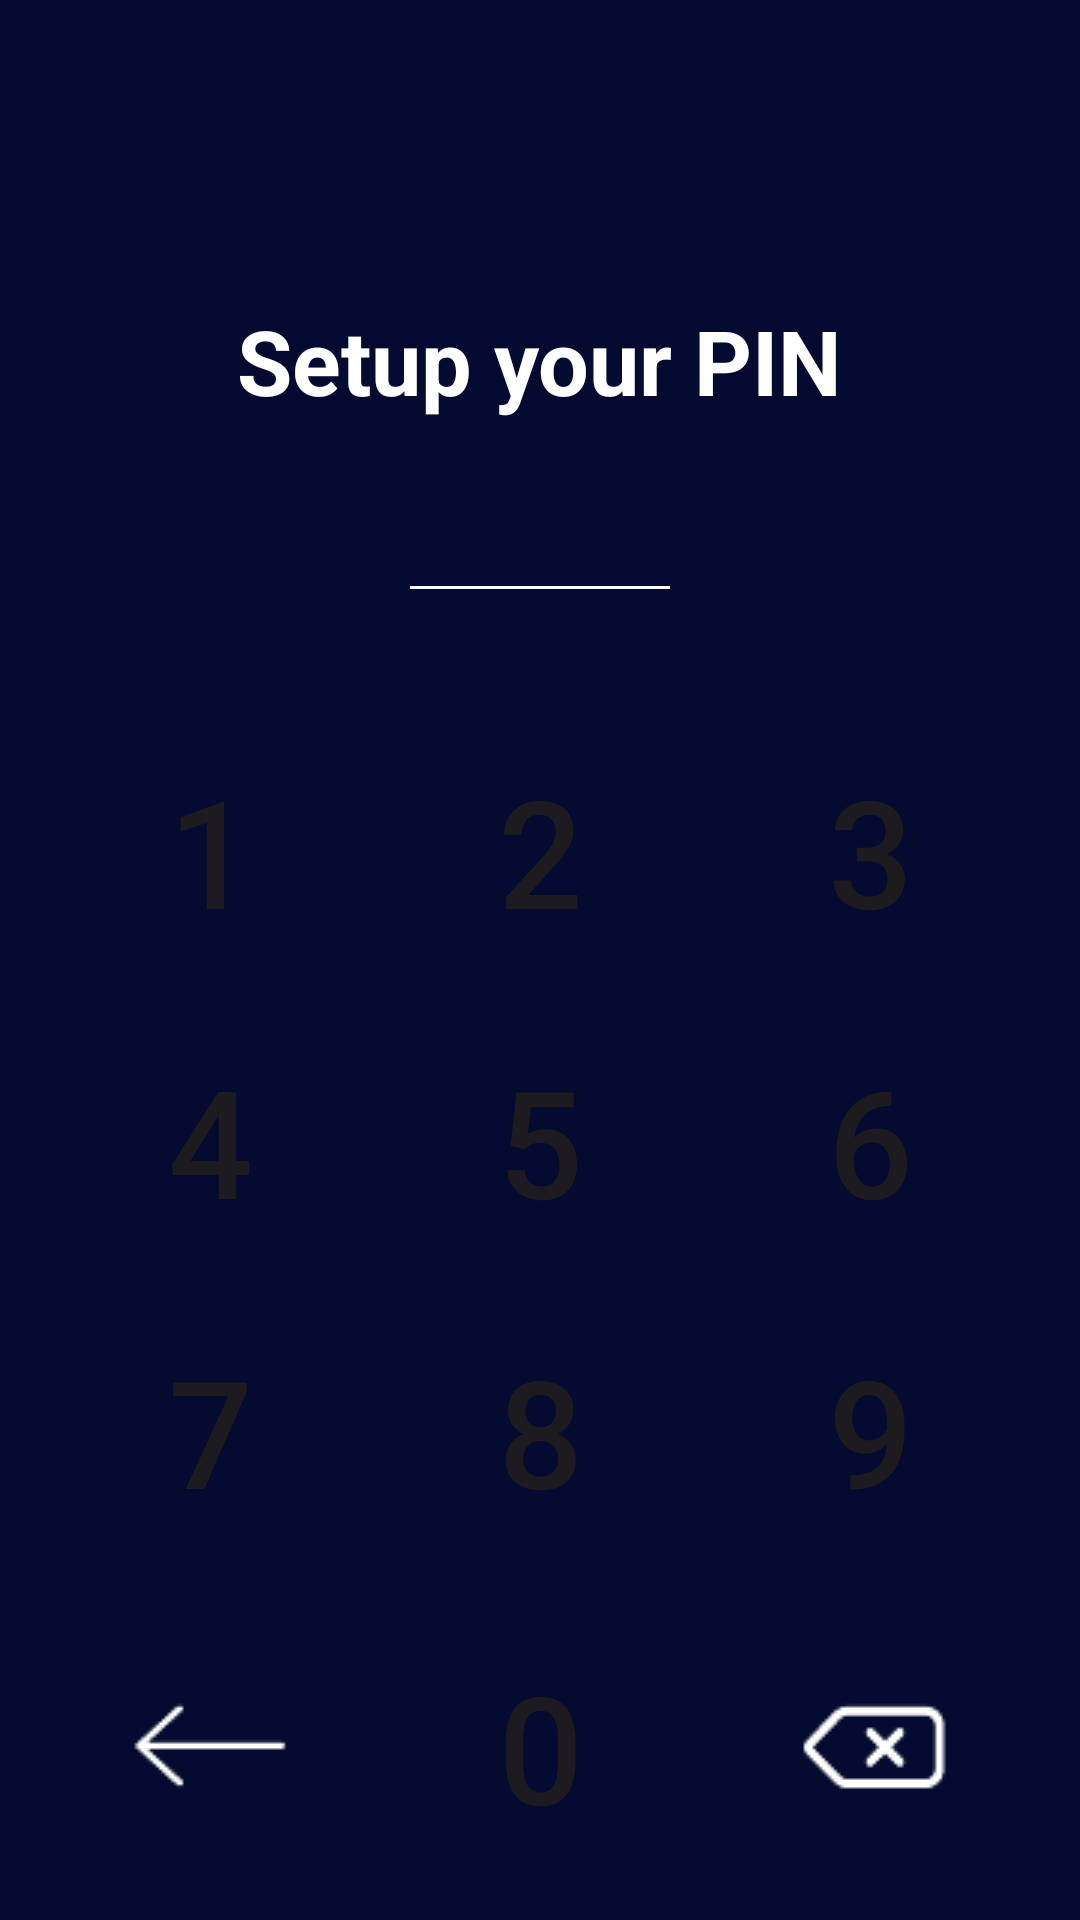

Locate icon controls on the screen. Image size 1080px x 1920px, boxes as [left=x1, top=y1, right=x2, bottom=y2].
erase: [left=803, top=1705, right=946, bottom=1789]
